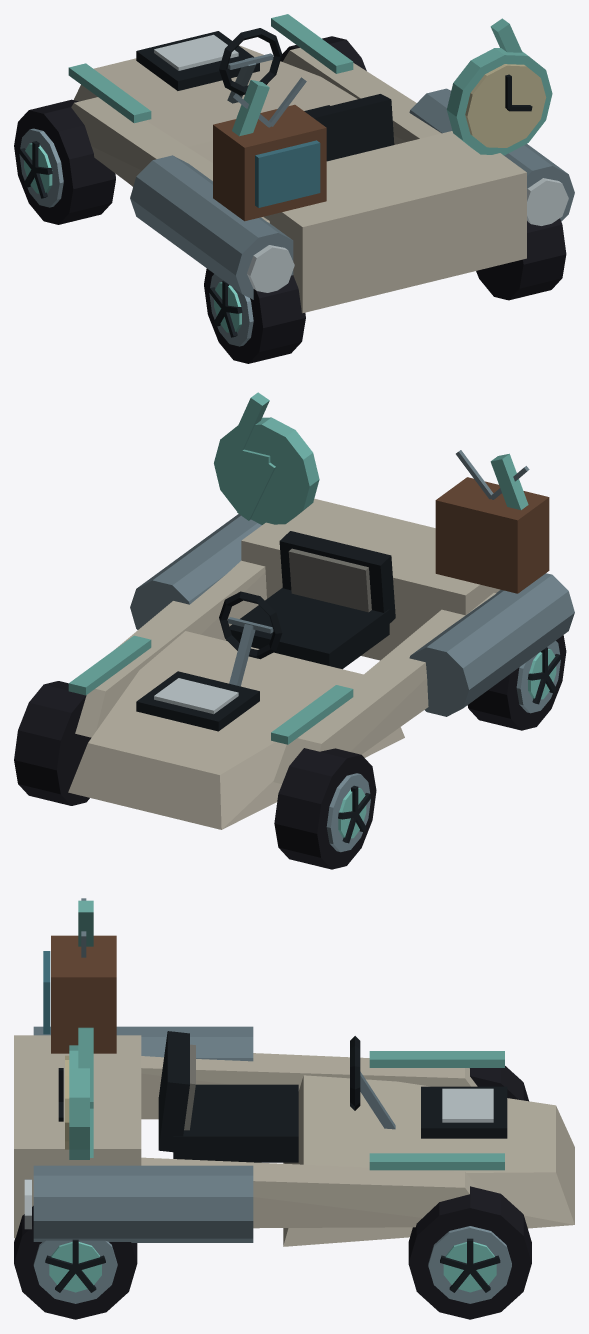
The model's file is kart.glb.
3 views of the same model, one above another, from view 1: azimuth 30°, elevation 25°; view 2: azimuth 150°, elevation 25°; view 3: azimuth 270°, elevation 25° (orthographic). The views are drawn at different scales.
Parts seen in each view (by area): view 1: identity-lab-pod-lab-pod-segmented-shell, identity-lab-pod-motif-television, wheel-front-left, identity-lab-pod-motif-clock, wheel-rear-left, identity-lab-pod-driver-cockpit, wheel-rear-right, identity-lab-pod-motif-electric, wheel-front-right; view 2: identity-lab-pod-lab-pod-segmented-shell, identity-lab-pod-driver-cockpit, identity-lab-pod-motif-television, wheel-front-left, wheel-front-right, identity-lab-pod-motif-clock, wheel-rear-left, identity-lab-pod-motif-electric; view 3: identity-lab-pod-lab-pod-segmented-shell, identity-lab-pod-driver-cockpit, wheel-front-right, wheel-rear-right, identity-lab-pod-motif-television, identity-lab-pod-motif-clock, identity-lab-pod-motif-electric, wheel-front-left.
Boxes of the visible parts, x1=… form: identity-lab-pod-lab-pod-segmented-shell: x1=68, y1=14, x2=574, y2=313; identity-lab-pod-motif-television: x1=213, y1=77, x2=326, y2=221; wheel-front-left: x1=14, y1=99, x2=115, y2=224; identity-lab-pod-motif-clock: x1=446, y1=48, x2=552, y2=155; wheel-rear-left: x1=204, y1=268, x2=305, y2=363; identity-lab-pod-driver-cockpit: x1=219, y1=28, x2=394, y2=161; wheel-rear-right: x1=476, y1=218, x2=566, y2=300; identity-lab-pod-motif-electric: x1=232, y1=18, x2=522, y2=136; wheel-front-right: x1=280, y1=36, x2=366, y2=70; identity-lab-pod-lab-pod-segmented-shell: x1=68, y1=498, x2=574, y2=829; identity-lab-pod-driver-cockpit: x1=219, y1=531, x2=395, y2=686; identity-lab-pod-motif-television: x1=435, y1=450, x2=549, y2=593; wheel-front-left: x1=274, y1=748, x2=376, y2=869; wheel-front-right: x1=14, y1=681, x2=91, y2=805; identity-lab-pod-motif-clock: x1=214, y1=417, x2=319, y2=524; wheel-rear-left: x1=467, y1=635, x2=566, y2=730; identity-lab-pod-motif-electric: x1=227, y1=392, x2=528, y2=520; identity-lab-pod-lab-pod-segmented-shell: x1=14, y1=1026, x2=574, y2=1246; identity-lab-pod-driver-cockpit: x1=158, y1=1031, x2=395, y2=1162; wheel-front-right: x1=408, y1=1186, x2=531, y2=1319; wheel-rear-right: x1=14, y1=1206, x2=137, y2=1319; identity-lab-pod-motif-television: x1=43, y1=898, x2=116, y2=1053; identity-lab-pod-motif-clock: x1=58, y1=1045, x2=89, y2=1159; identity-lab-pod-motif-electric: x1=78, y1=900, x2=93, y2=1157; wheel-front-left: x1=470, y1=1066, x2=528, y2=1101.
Bounding box in the file's own units: 1.98 × 1.49 × 2.73.
